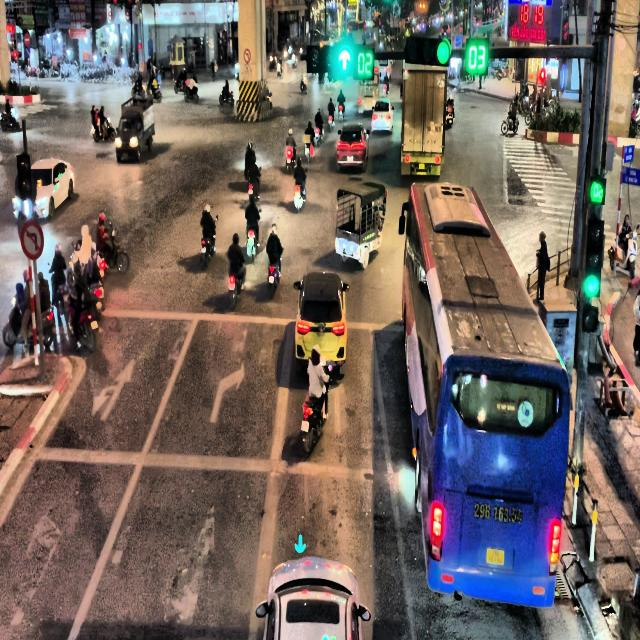lisence_plate: (476, 537, 515, 576), (471, 498, 524, 526), (485, 545, 505, 567)
